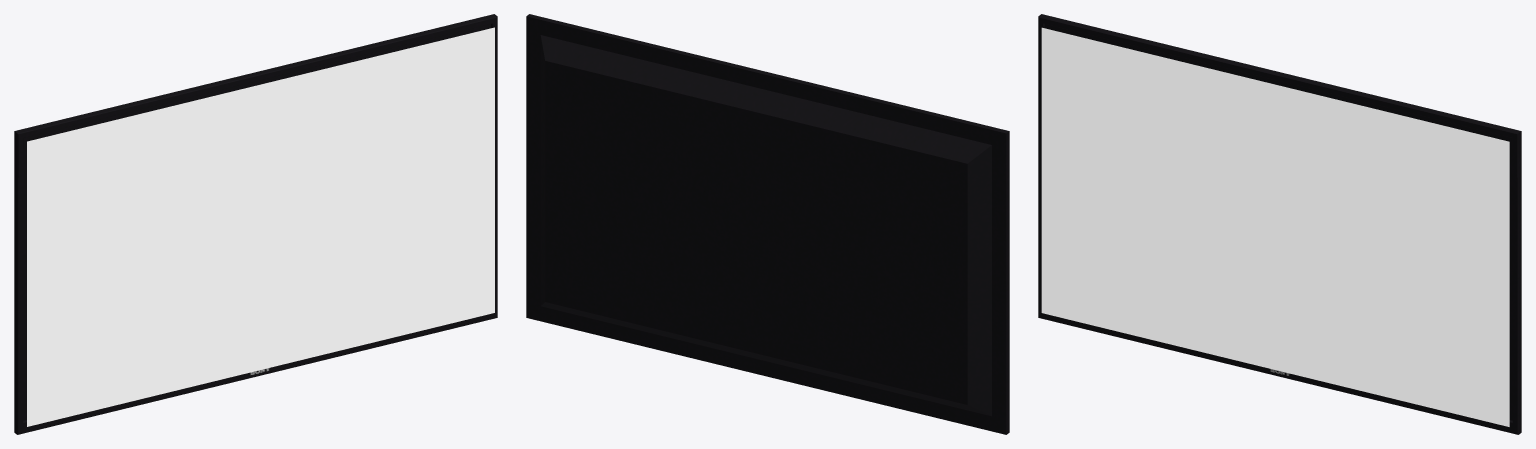
3 renders of one model, left to right at view 1: azimuth 30°, elevation 25°; view 2: azimuth 150°, elevation 25°; view 3: azimuth 330°, elevation 25°, orthographic.
Parts seen in each view (by area): view 1: Plane, tv; view 2: tv; view 3: Plane, tv.
Part boxes in pixels (left/top/right/bottom): Plane: left=27, top=27, right=494, bottom=426; tv: left=14, top=14, right=497, bottom=434; tv: left=526, top=14, right=1009, bottom=434; Plane: left=1041, top=27, right=1509, bottom=426; tv: left=1038, top=14, right=1521, bottom=434.
Bounding box in the file's own units: 59.06 × 35.43 × 3.45.
Materials: 2 (1 with a texture image).
